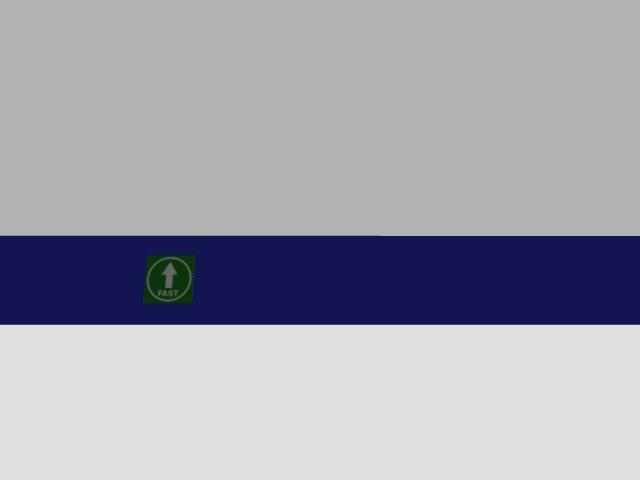fast: (143, 255, 194, 302)
